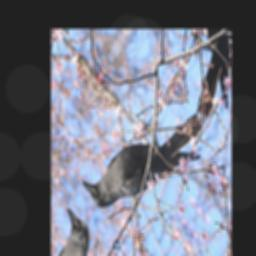Crow: (78, 59, 213, 256)
